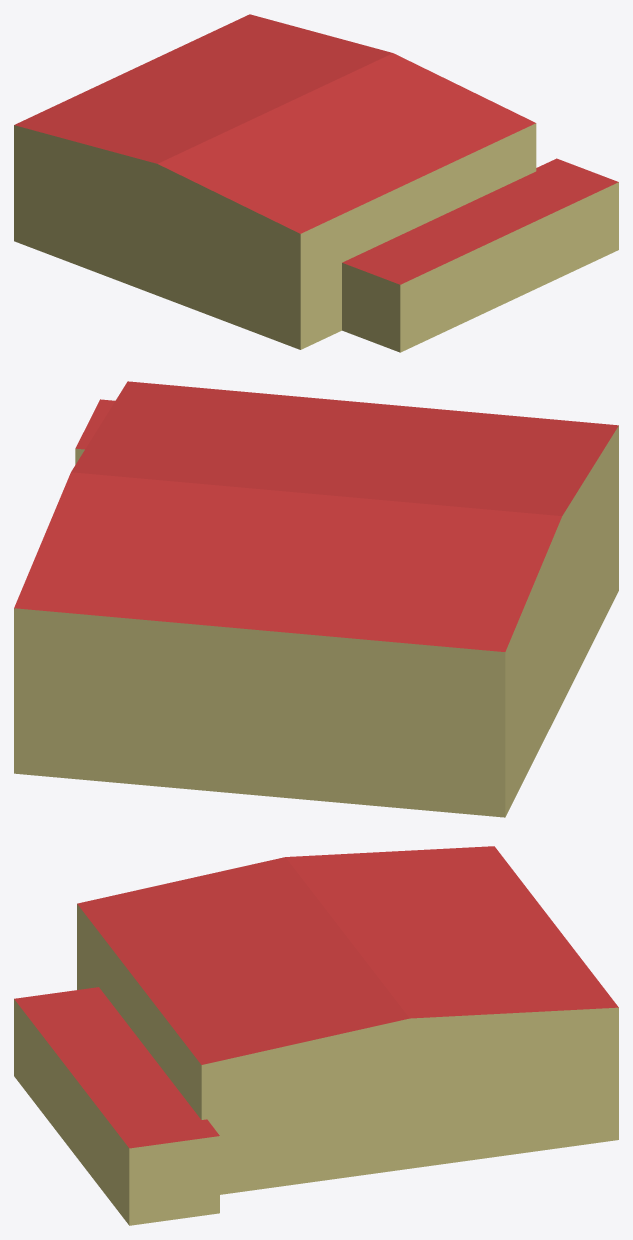
The picture shows the model from 3 angles, top to bottom: view 1: azimuth 30°, elevation 25°; view 2: azimuth 150°, elevation 25°; view 3: azimuth 270°, elevation 25°; orthographic projection. The views are drawn at different scales.
Bounding box in the file's own units: 49.24 × 50.9 × 13.95.
